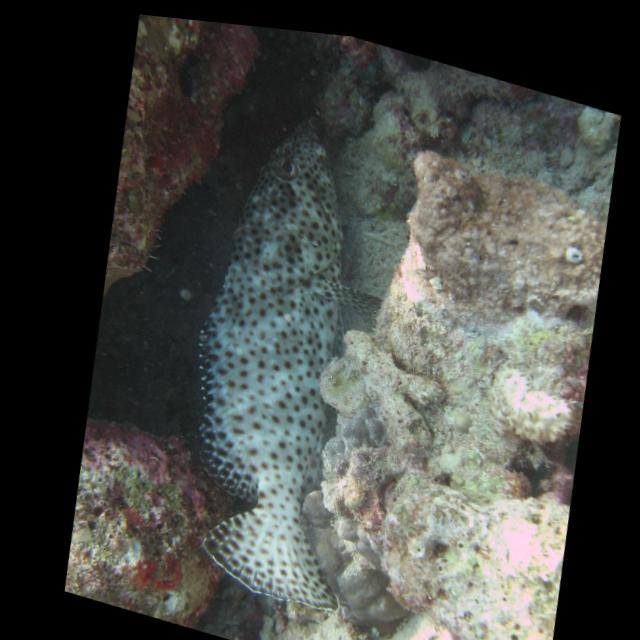Groupers: (130, 89, 427, 626)
